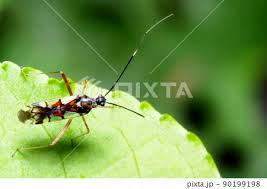Helopeltis-insect: (21, 85, 112, 128)
